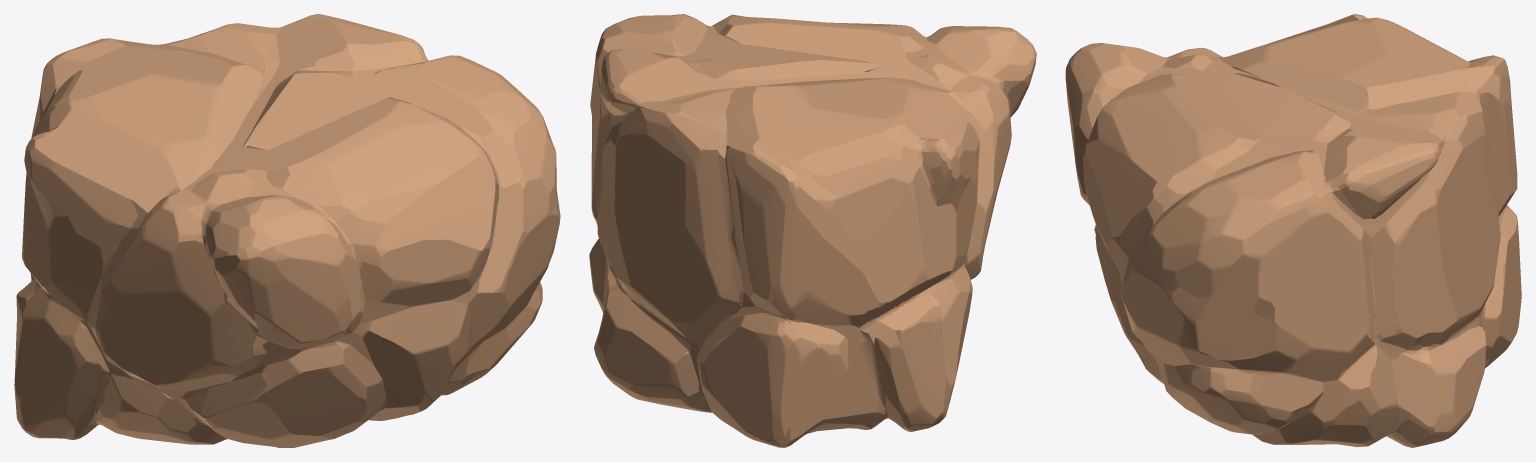
3 views of the same model, side by side, from view 1: azimuth 30°, elevation 25°; view 2: azimuth 150°, elevation 25°; view 3: azimuth 270°, elevation 25° (orthographic). The views are drawn at different scales.
Visible parts, largest first — view 1: Mesh_67_LOD0; view 2: Mesh_67_LOD0; view 3: Mesh_67_LOD0.
Part boxes in pixels (bbox=[...]): Mesh_67_LOD0: bbox=[14, 14, 560, 447]; Mesh_67_LOD0: bbox=[589, 14, 1036, 447]; Mesh_67_LOD0: bbox=[1065, 14, 1521, 447].
Size of what is drawn, in the model's own units: 2323 by 1637 by 2183.
